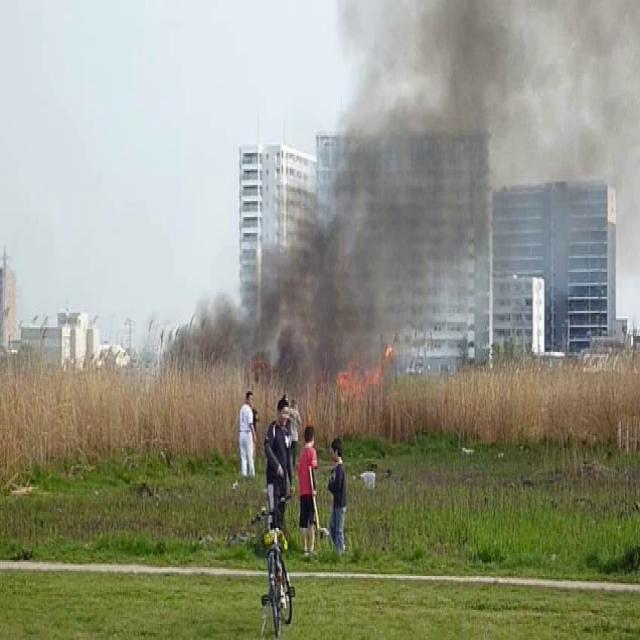Smoke: (261, 1, 639, 378)
